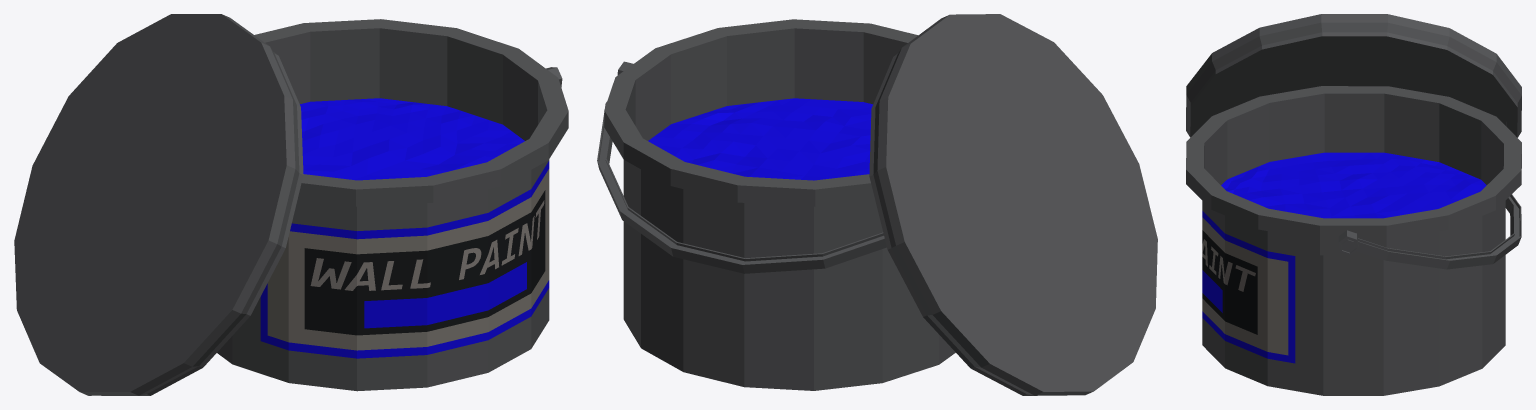
Rendered from SM_A_TIN_OF_PAINT_RED_OPEN.gltf.
The picture shows the model from 3 angles, left to right: view 1: azimuth 30°, elevation 25°; view 2: azimuth 150°, elevation 25°; view 3: azimuth 270°, elevation 25°; orthographic projection. The views are drawn at different scales.
Parts seen in each view (by area): view 1: SM_A_TIN_OF_PAINT_RED_OPEN; view 2: SM_A_TIN_OF_PAINT_RED_OPEN; view 3: SM_A_TIN_OF_PAINT_RED_OPEN.
Part boxes in pixels (x1,y1,x2,y2): SM_A_TIN_OF_PAINT_RED_OPEN: (14, 14, 568, 395); SM_A_TIN_OF_PAINT_RED_OPEN: (597, 14, 1157, 395); SM_A_TIN_OF_PAINT_RED_OPEN: (1186, 14, 1521, 395).
Bounding box in the file's own units: 0.462 × 0.2828 × 0.3227.
